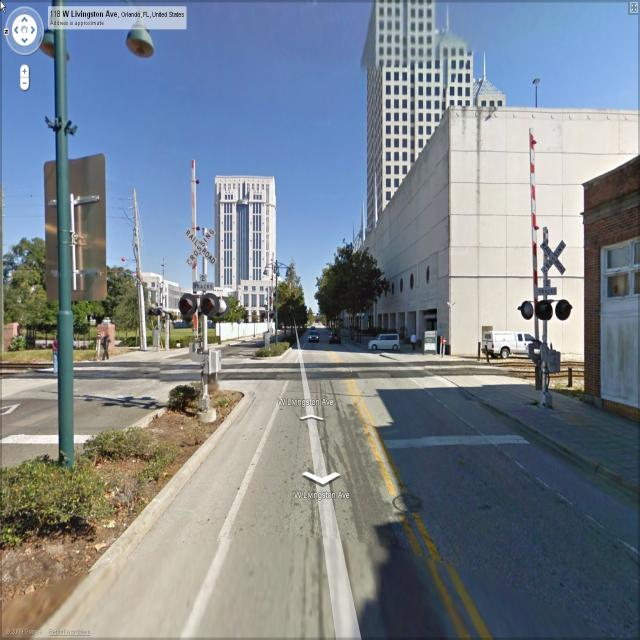b_1: (372, 109, 640, 364), (345, 13, 499, 215), (581, 154, 640, 397), (204, 176, 284, 339)
b_2: (117, 260, 207, 334)
